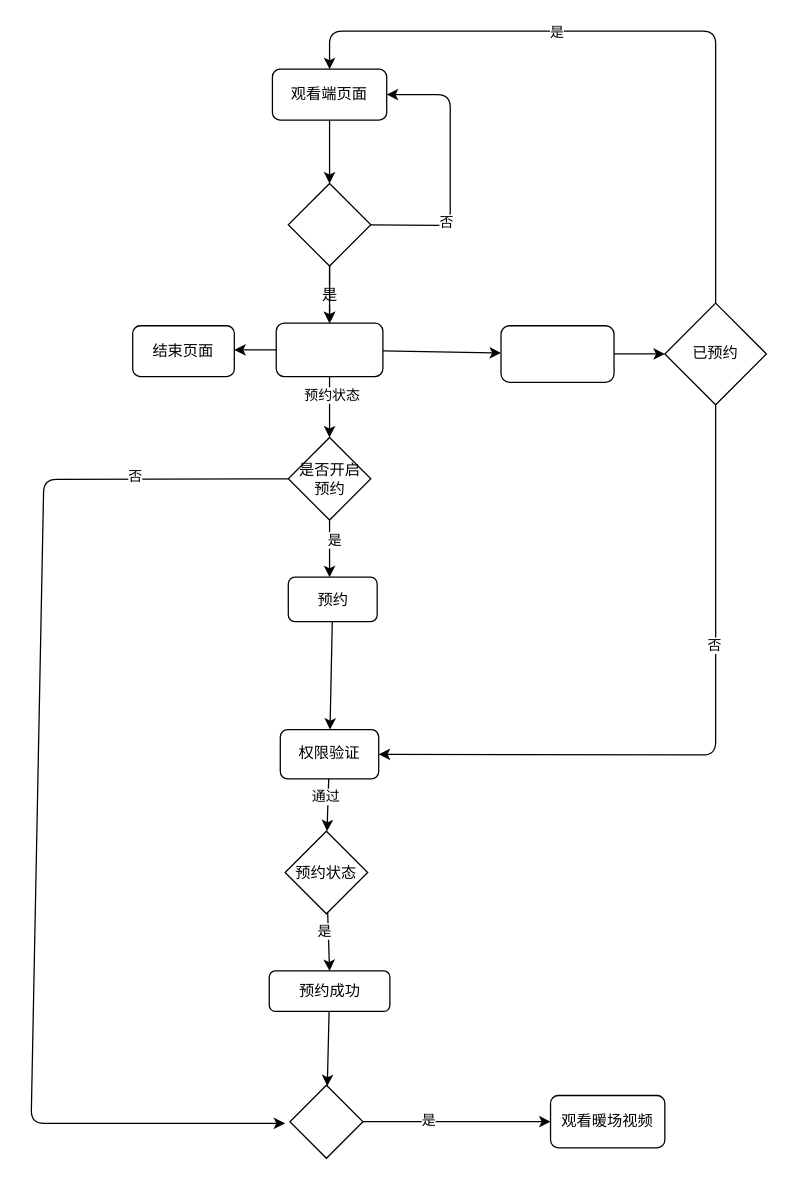
The diagram is 789 pixels wide and 1181 high, and some of its shapes have lost their labels. Each missing label, with the centre of its shape:
"开启暖 场视频" goes at [326,1121].
"是否是 预约页" goes at [329,224].
"直播中" goes at [557,353].
"预约页" goes at [329,349].
